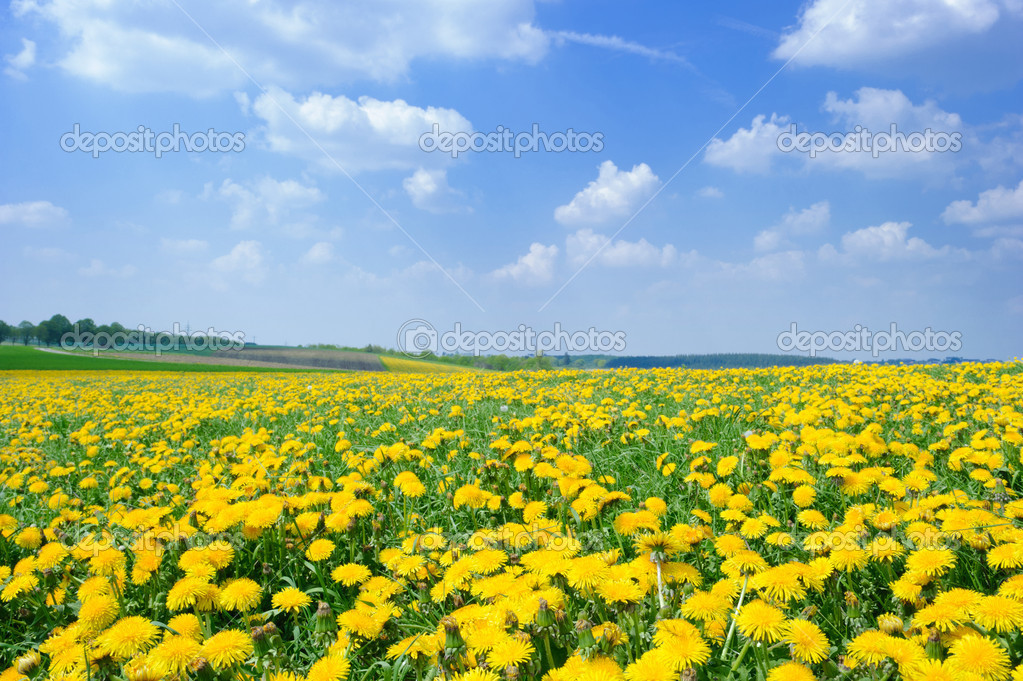begonvil: (902, 404, 1022, 594), (361, 372, 996, 400), (774, 402, 900, 490), (252, 375, 340, 478), (448, 602, 534, 670), (939, 625, 1010, 681), (837, 620, 907, 674), (652, 613, 713, 674), (72, 569, 125, 631), (967, 584, 1023, 640), (100, 612, 163, 660), (331, 467, 373, 535), (153, 633, 211, 681), (39, 625, 86, 681), (203, 627, 258, 674), (783, 618, 831, 671), (738, 598, 787, 649), (293, 642, 356, 681), (115, 496, 174, 537), (163, 572, 214, 619), (593, 575, 647, 619), (174, 541, 239, 577), (927, 582, 980, 623), (904, 544, 955, 586), (762, 560, 810, 603), (124, 534, 162, 588), (274, 579, 317, 626), (612, 505, 659, 547), (217, 577, 267, 616), (653, 556, 703, 591), (328, 555, 375, 591), (334, 609, 379, 646), (727, 546, 769, 585), (240, 496, 282, 534), (562, 554, 609, 586), (464, 548, 513, 578), (662, 523, 707, 555), (393, 467, 424, 509), (869, 507, 906, 538), (322, 508, 355, 541), (307, 538, 341, 567), (737, 516, 770, 544), (788, 482, 818, 511), (714, 454, 744, 482), (704, 482, 734, 509), (520, 496, 546, 524), (504, 438, 540, 455)
